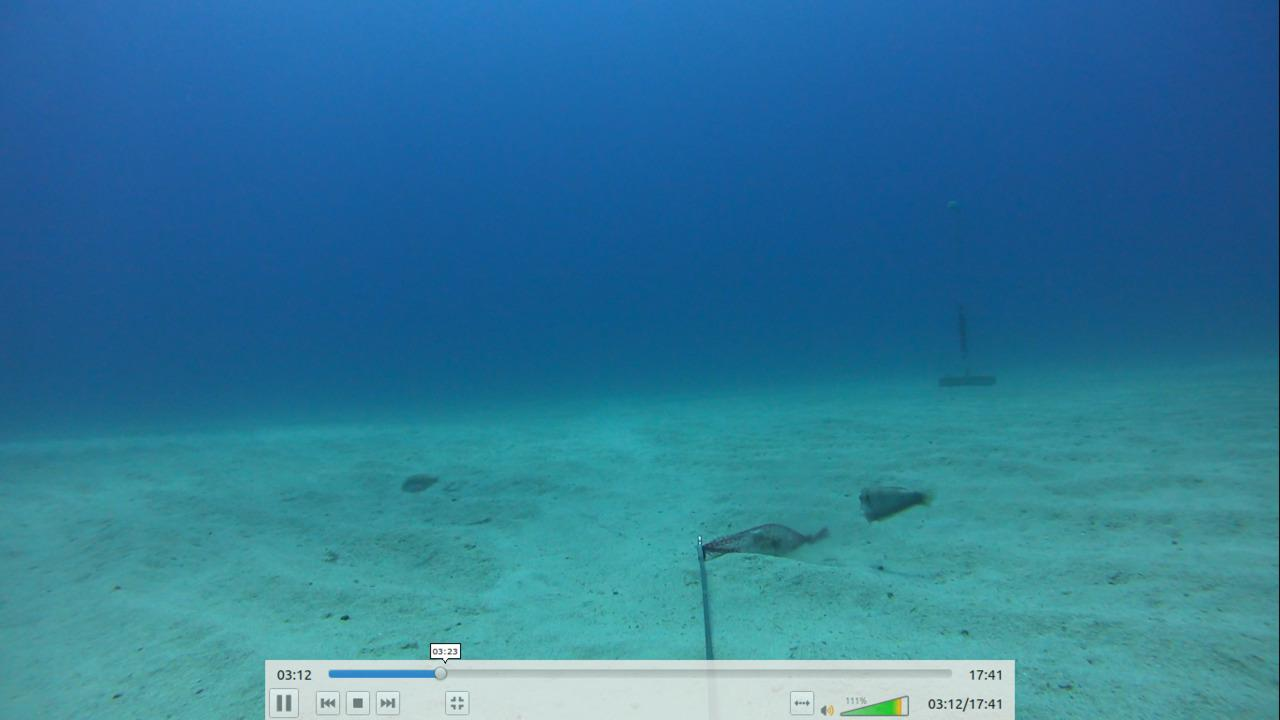raor: (854, 473, 937, 524), (394, 466, 449, 501)
